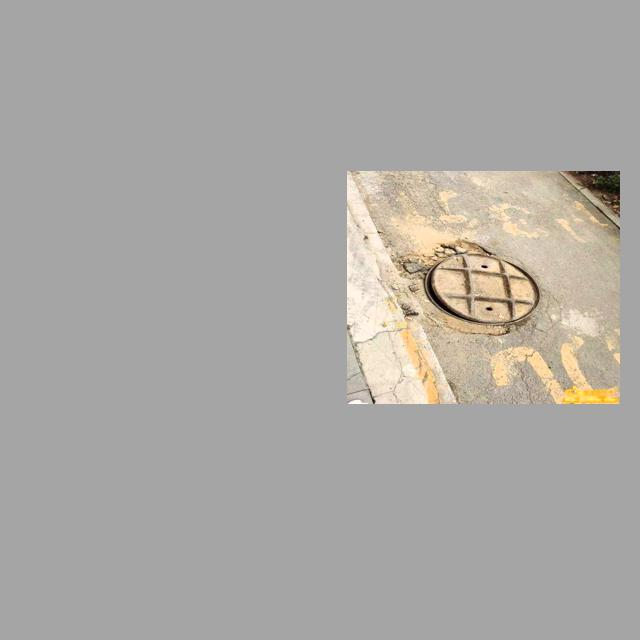circle: (378, 238, 559, 341)
